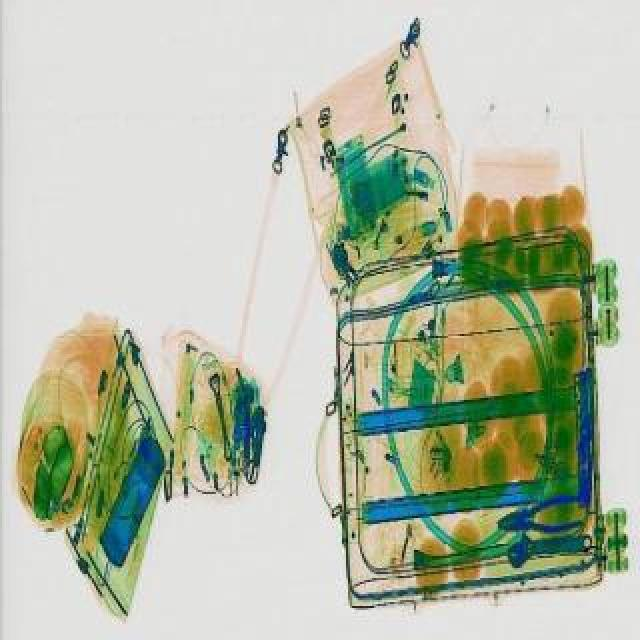scissors: (502, 528, 596, 566)
wrench: (494, 486, 590, 538)
